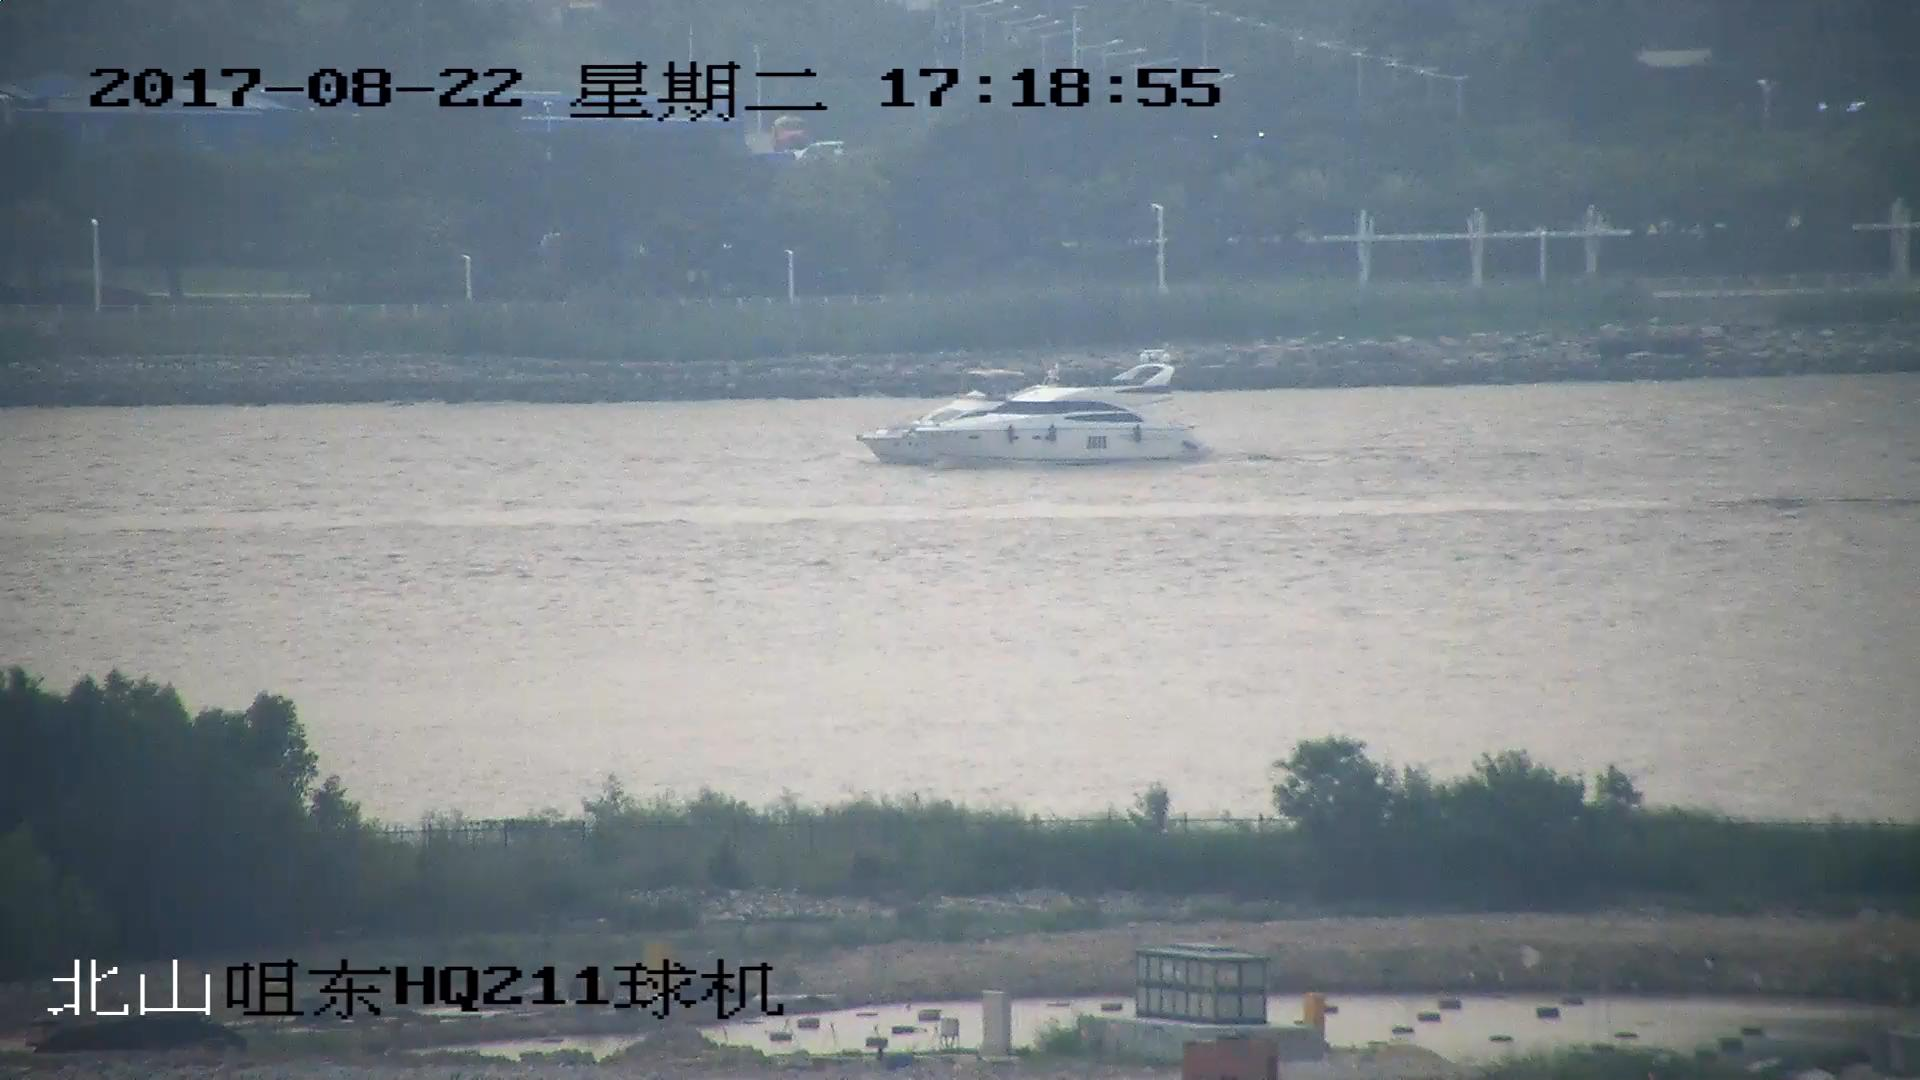passenger ship: (856, 351, 1212, 463)
